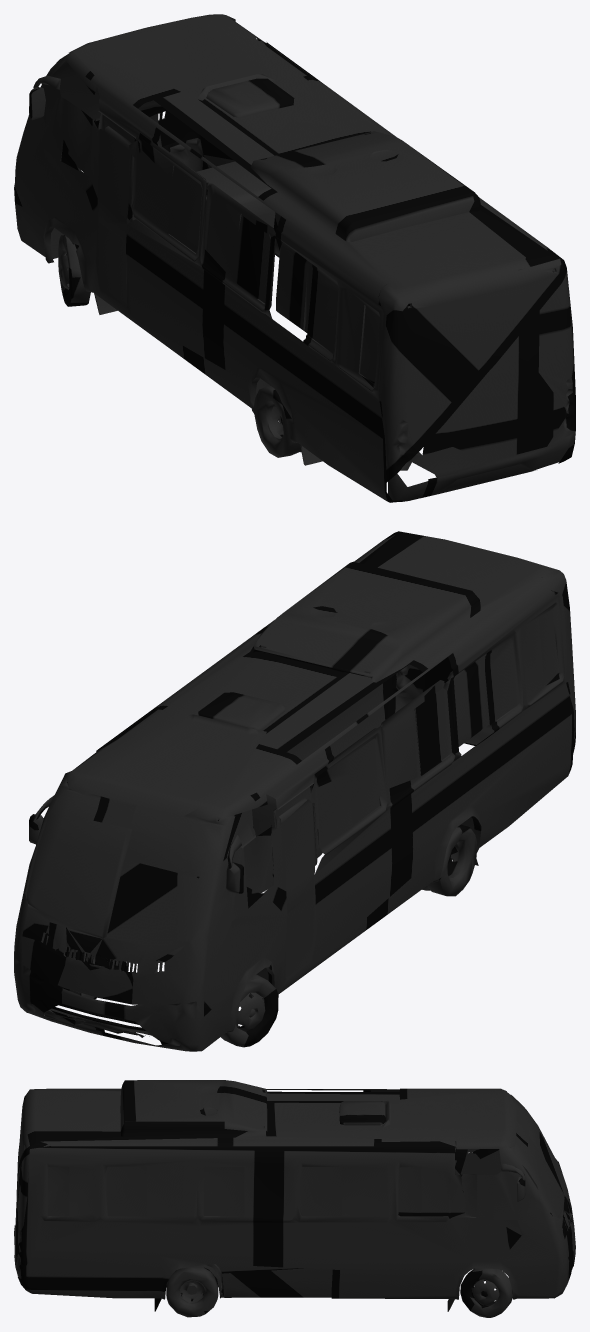
Rendered from schoolbus.fbx.
3 renders of one model, top to bottom at view 1: azimuth 30°, elevation 25°; view 2: azimuth 150°, elevation 25°; view 3: azimuth 270°, elevation 25°, orthographic. The views are drawn at different scales.
Parts seen in each view (by area): view 1: bus_LOD0; view 2: bus_LOD0; view 3: bus_LOD0.
Boxes of the visible parts, box(x1,y1,x2,y2) form: bus_LOD0: box(14, 14, 575, 502); bus_LOD0: box(14, 531, 575, 1051); bus_LOD0: box(14, 1080, 575, 1317).
Size of what is drawn, in the model's own units: 263 by 842 by 308.
